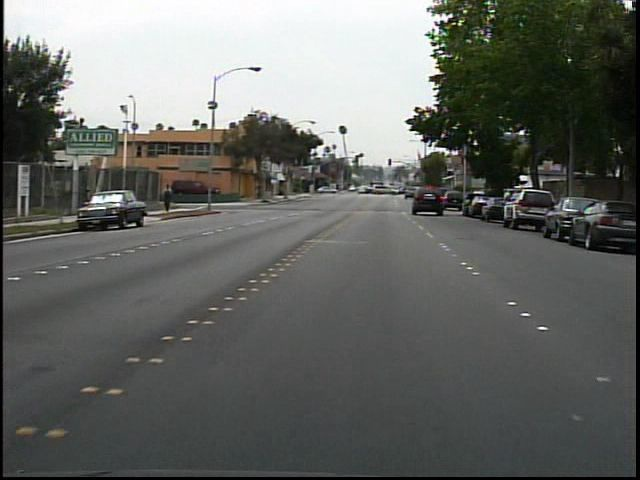person: (161, 181, 180, 217)
